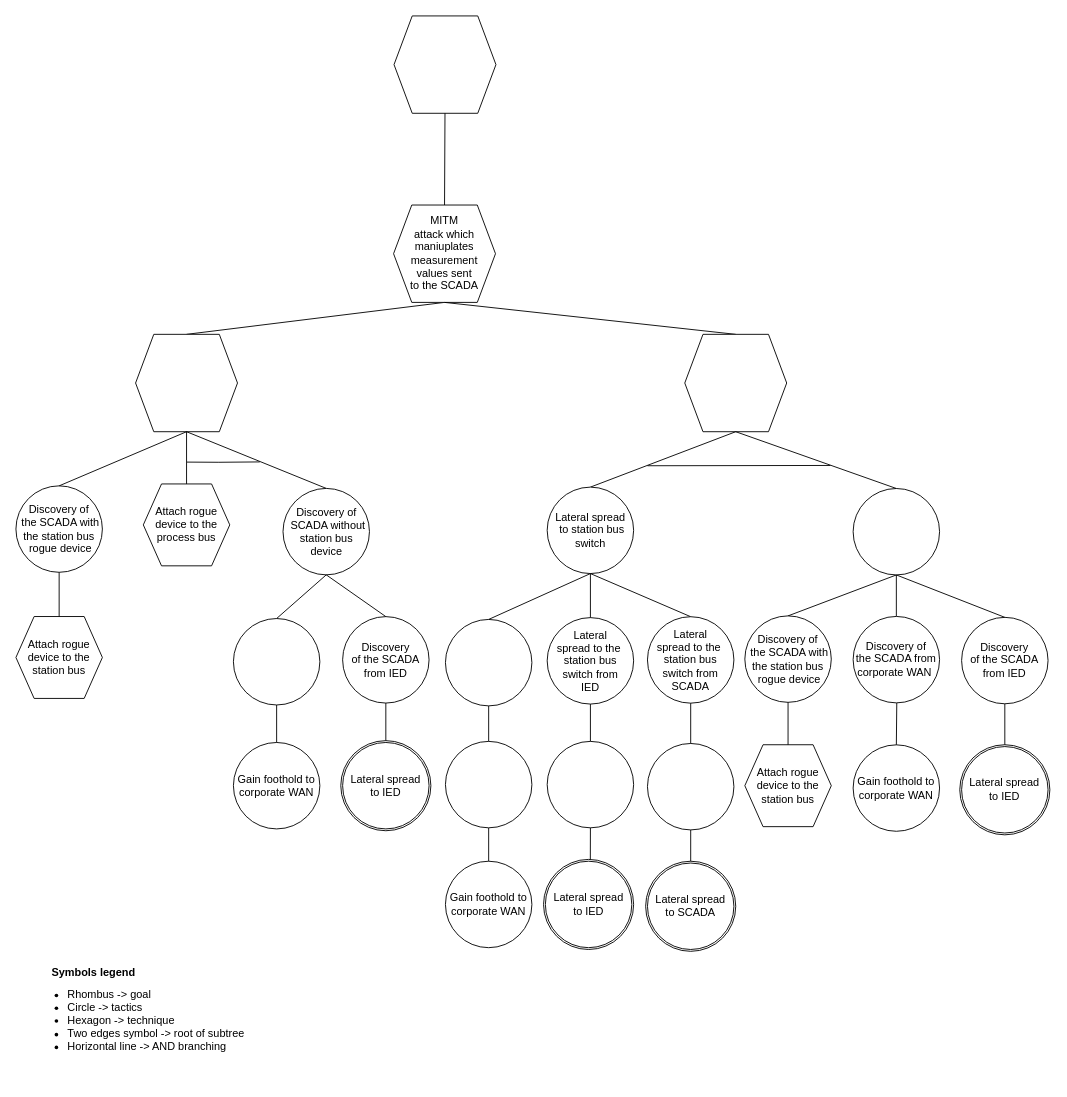
Some shapes in this 1067 by 1097 pixel diagram are drawn without their labels. Each missing label, with the centre of its shape:
Discovery of SCADA from corporate WAN: the point at 276,661
Discovery of the SCADA: the point at 896,531
Discovery of the station bus switch from corporate WAN: the point at 488,784
Discovery of the station bus switch from IED: the point at 590,784
Discovery of the station bus switch from SCADA: the point at 690,786
Lateral spread to the station bus switch from corporate WAN: the point at 488,662
Manipulate measurement values: the point at 444,64
MITM to SCADA from station bus swtich: the point at 735,382
MITM to SCADA with station bus rogue device: the point at 186,382
